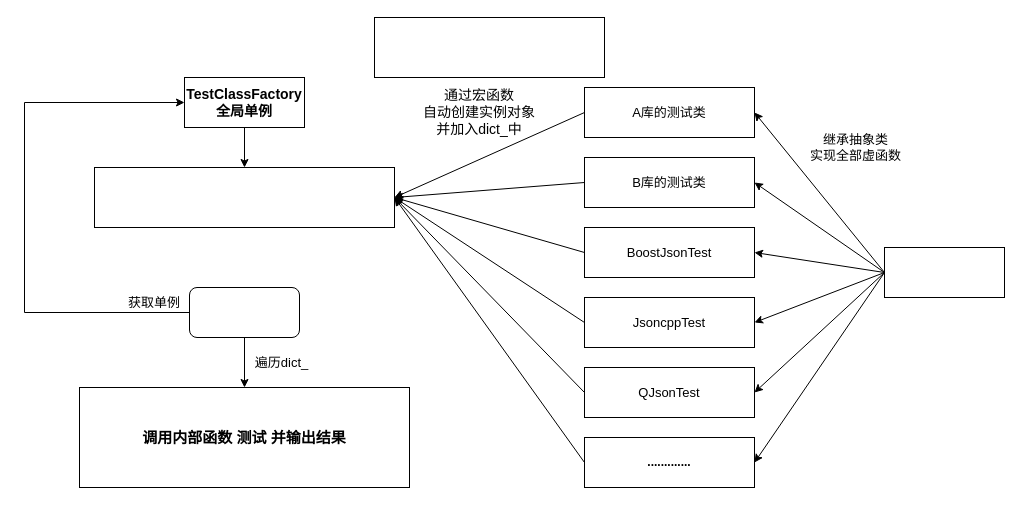
This 1022x505 diagram has some shape labels left out. The shapes that lost their labels are listed below. From the top down, each one's centre as x and y in pixels, then its label:
At (x=489, y=47): "宏函数： REGISTER_CLASS(库名, 子类名)".
At (x=244, y=197): "成员变量 std::map< std::string , TestBase> dict_ ;".
At (x=944, y=272): "TestBase 抽象类".
At (x=244, y=312): "主函数 main()".
